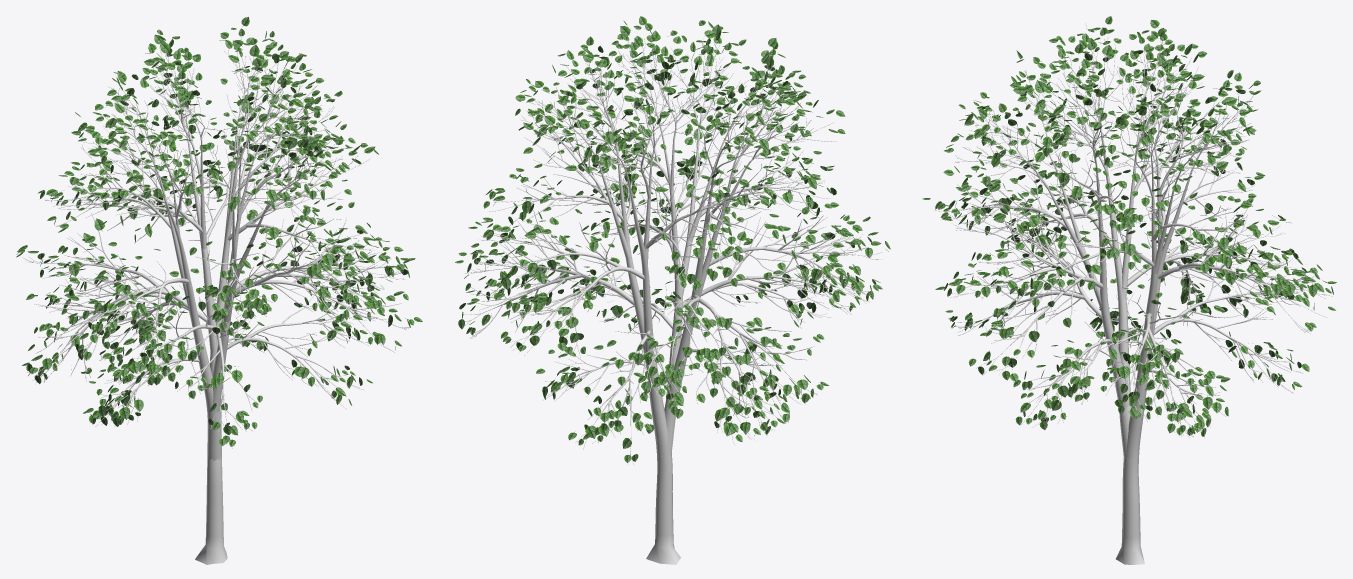
File: Small Maple2.fbx
The picture shows the model from 3 angles, left to right: view 1: azimuth 30°, elevation 25°; view 2: azimuth 150°, elevation 25°; view 3: azimuth 270°, elevation 25°; orthographic projection.
Parts seen in each view (by area): view 1: leaves.001, tree2_LOD0; view 2: leaves.001, tree2_LOD0; view 3: leaves.001, tree2_LOD0.
Boxes of the visible parts, <box> form: leaves.001: <box>16,17,422,446</box>; tree2_LOD0: <box>22,37,410,564</box>; leaves.001: <box>455,16,890,462</box>; tree2_LOD0: <box>463,38,882,564</box>; leaves.001: <box>922,16,1336,436</box>; tree2_LOD0: <box>933,37,1332,564</box>.
Size of what is drawn, in the model's own units: 462 by 592 by 441.
